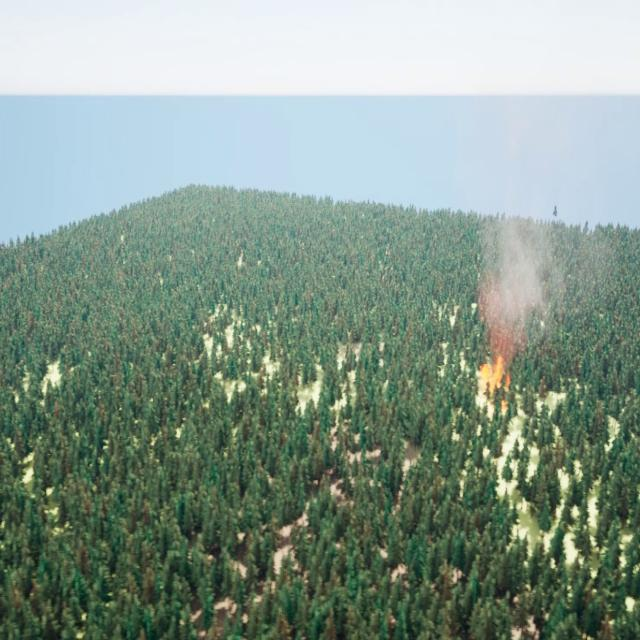fire: (479, 355, 513, 417)
smoke: (476, 207, 574, 345)
